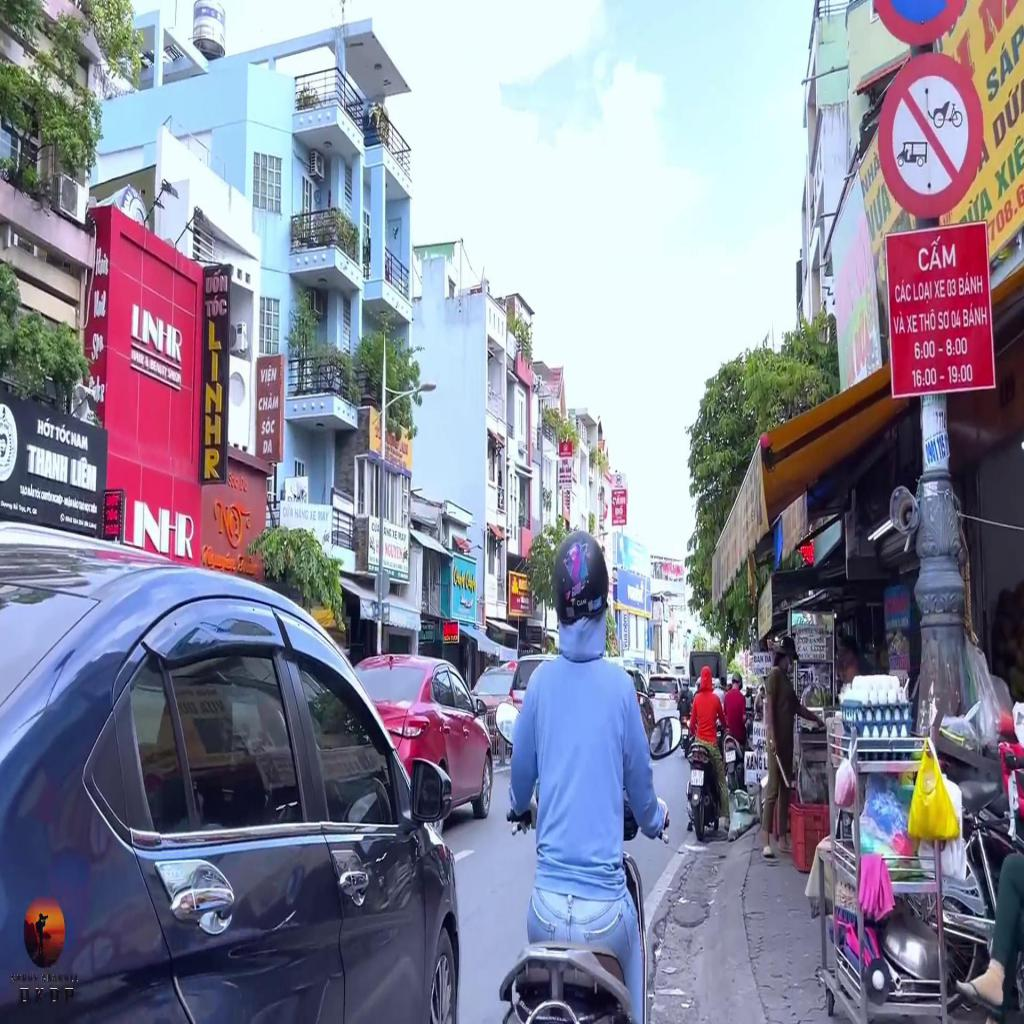cam_cac_loai_xe_3_banh: (878, 51, 982, 218)
